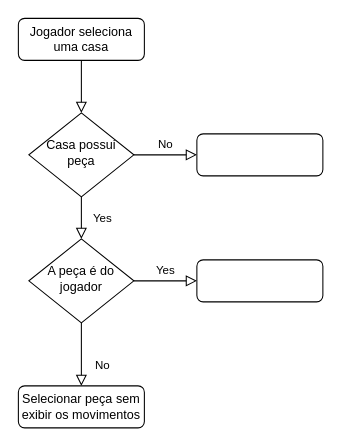
Some shapes in this 341 by 446 pixel diagram are drawn without their labels. Each missing label, with the centre of its shape:
"Selecionar Casa" belongs at [259,154].
"Selecionar peça e exibir movimentos" belongs at [259,280].
